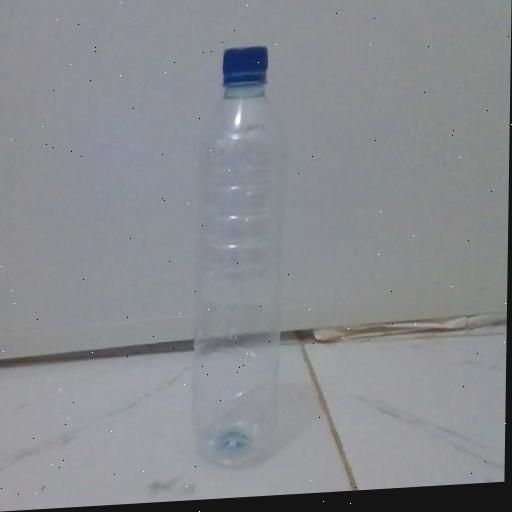bottle: (155, 21, 310, 492)
